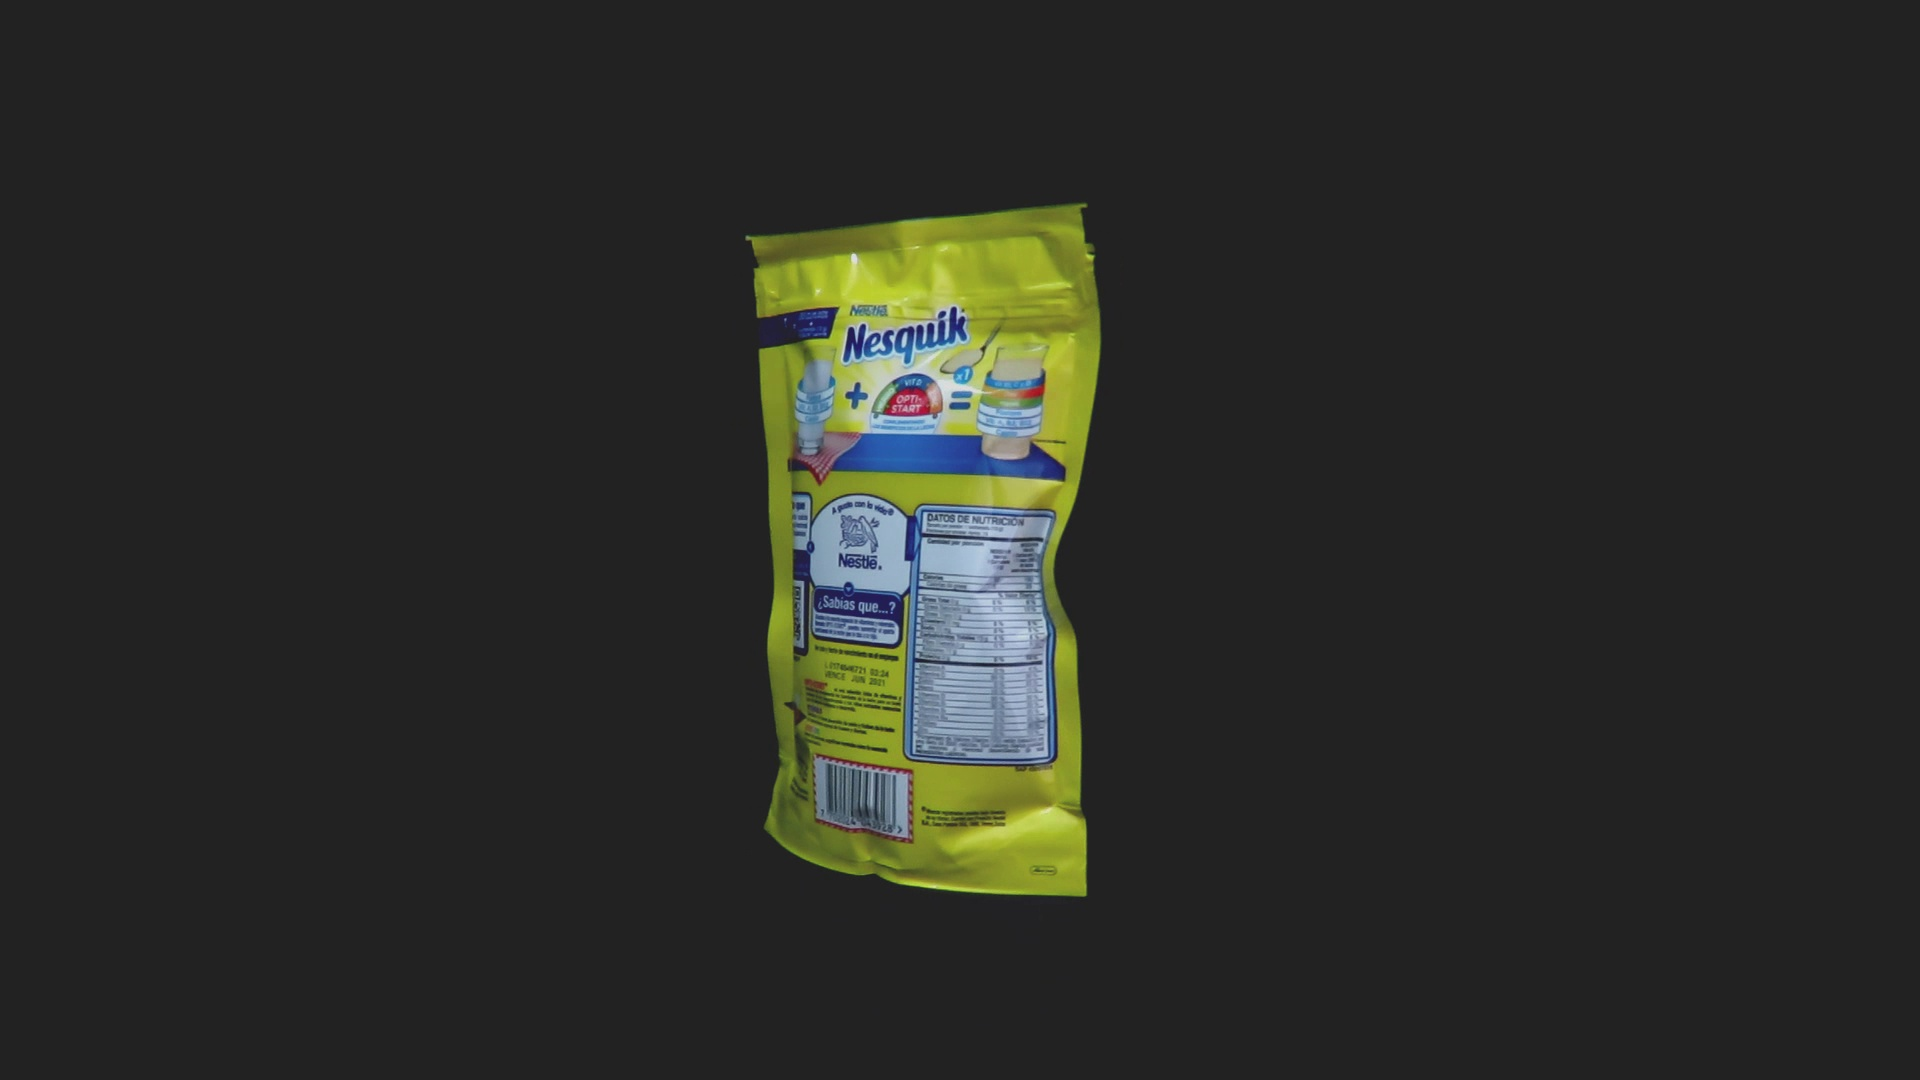COL0170306DYP20000: (740, 198, 1106, 903)
